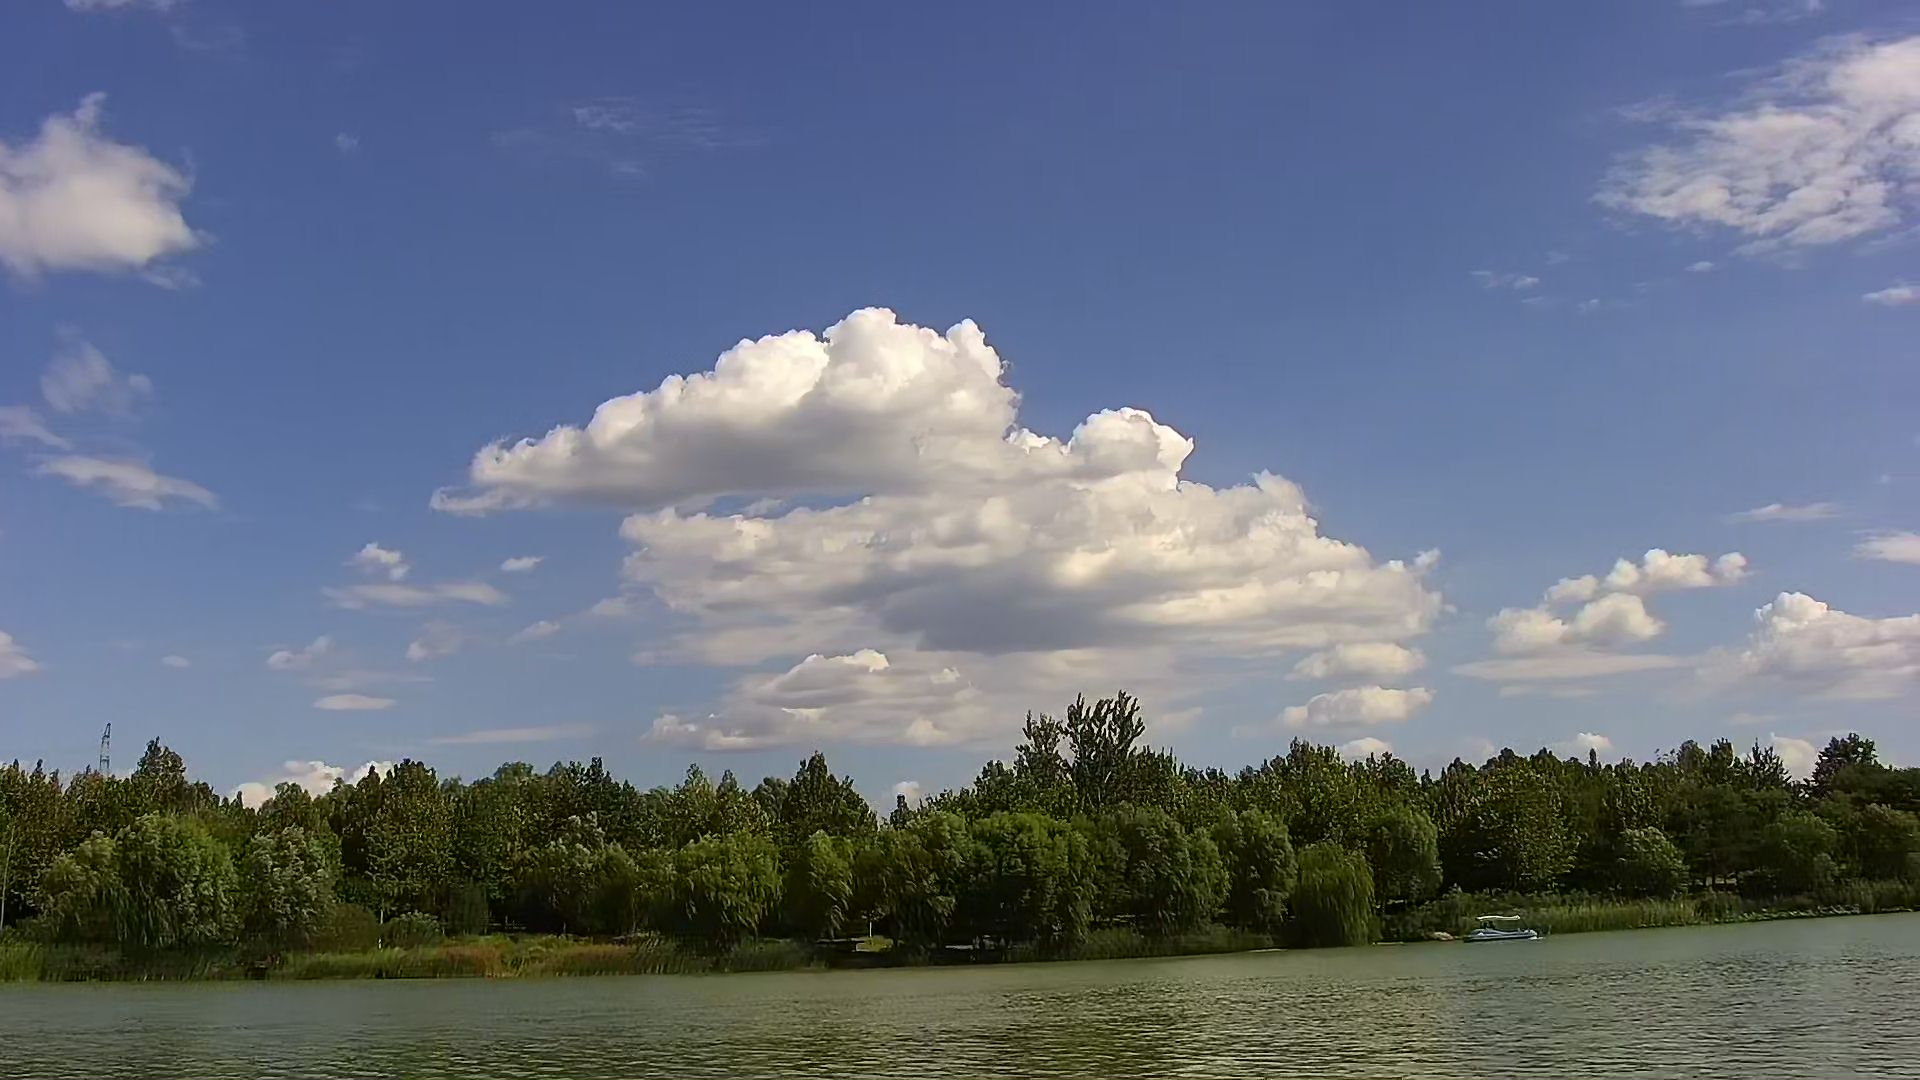boat: (1460, 911, 1538, 942)
rock: (1432, 927, 1455, 945)
